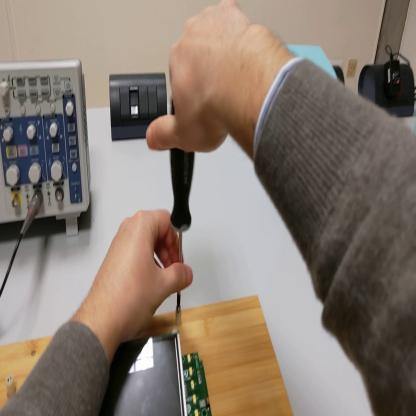hand: (146, 1, 268, 161), (101, 208, 195, 341)
low voltage board: (104, 337, 211, 413)
oscilloscope: (2, 65, 92, 238)
screwdriver-: (172, 93, 194, 316)
socket: (355, 62, 416, 118), (334, 64, 346, 82)
welder station: (287, 45, 339, 81)
working area: (1, 294, 295, 415)
